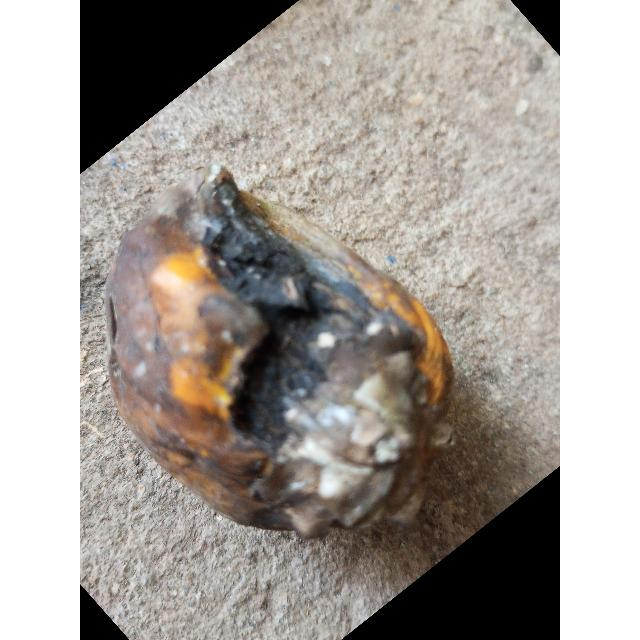damaged: (107, 169, 454, 543)
